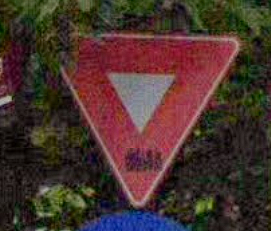cedeaza: (44, 23, 249, 217)
